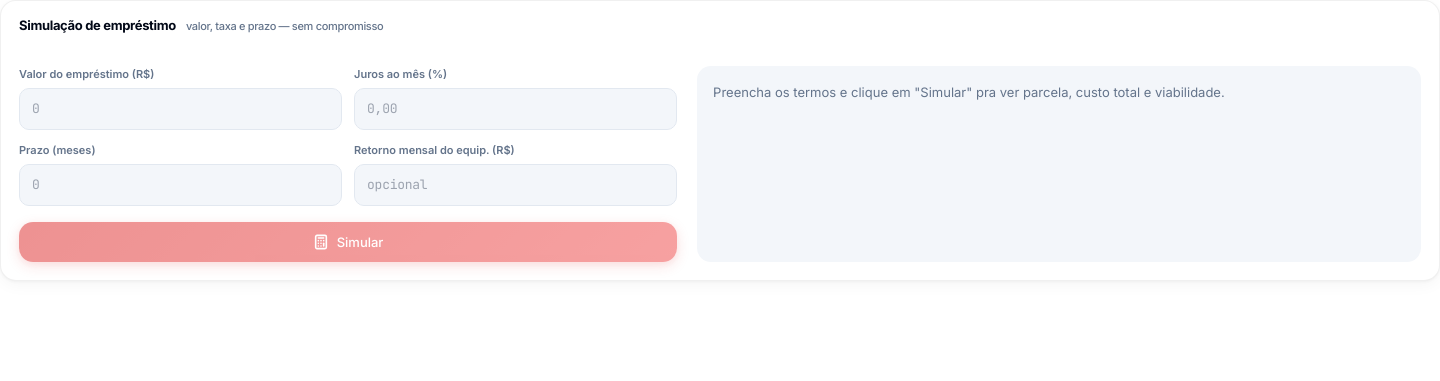
Test: Bancário › Simulador de empréstimo (smoke) › preenche, envia e renderiza o resultado real vindo do servidor (Tabela Price)
This screenshot has width=1440, height=381.
Type "20000" into the number field labelled "Valor do empréstimo (R$)" at (180,108), box [19,88,342,130]
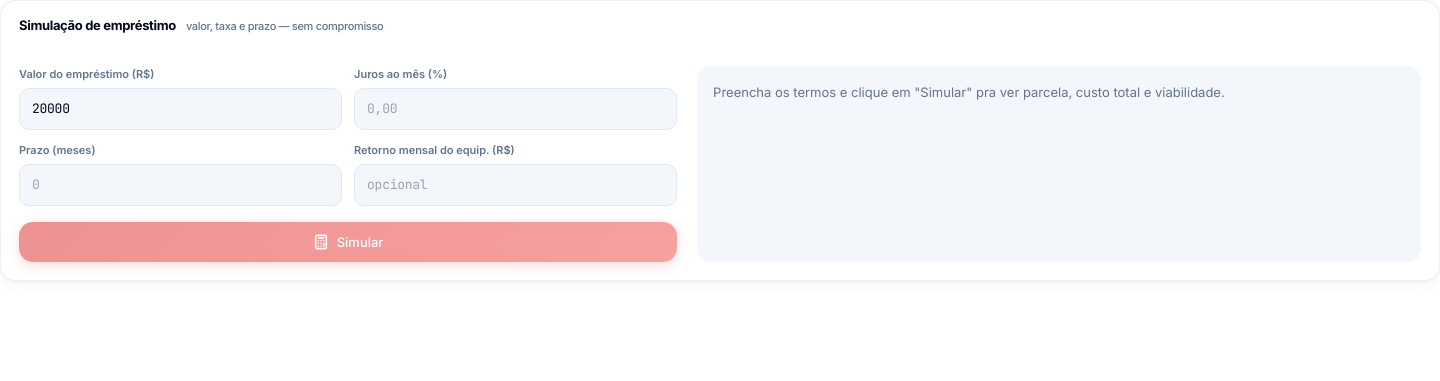
Type "1.5" into the number field labelled "Juros ao mês (%)" at (516,108), box [354,88,677,130]
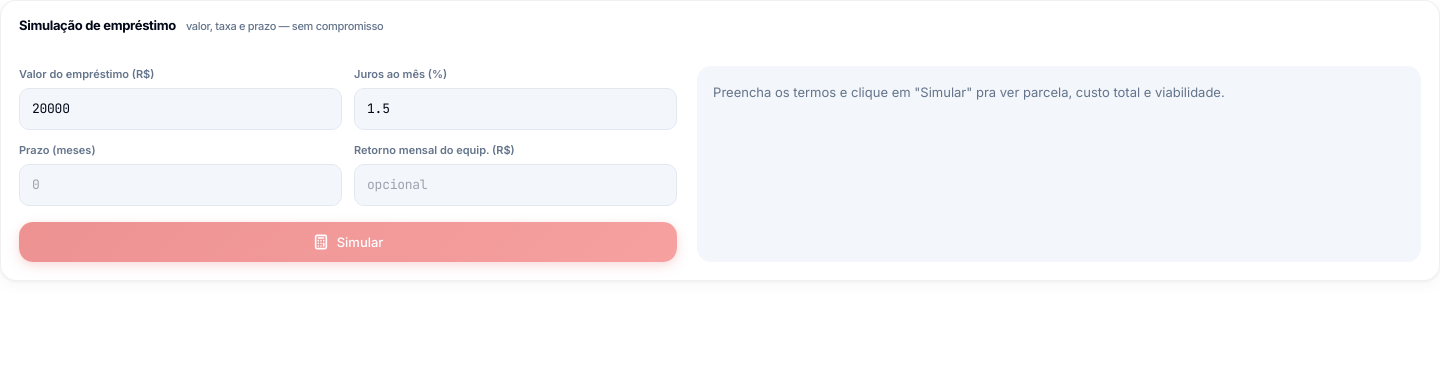
Type "12" into the number field labelled "Prazo (meses)" at (180,184), box [19,164,342,206]
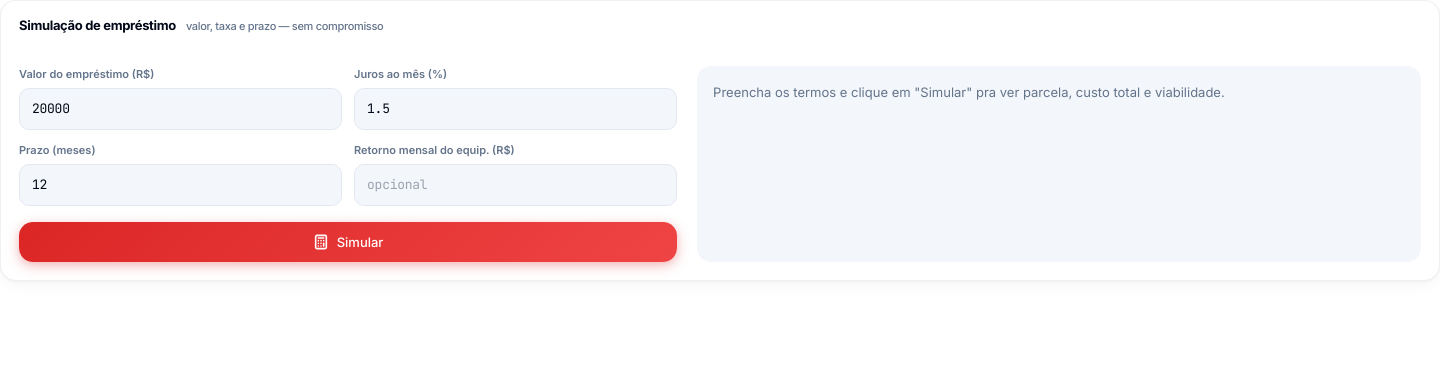
Now the button "Simular" is enabled
Click the button "Simular" at (348,242), box [19,222,677,262]
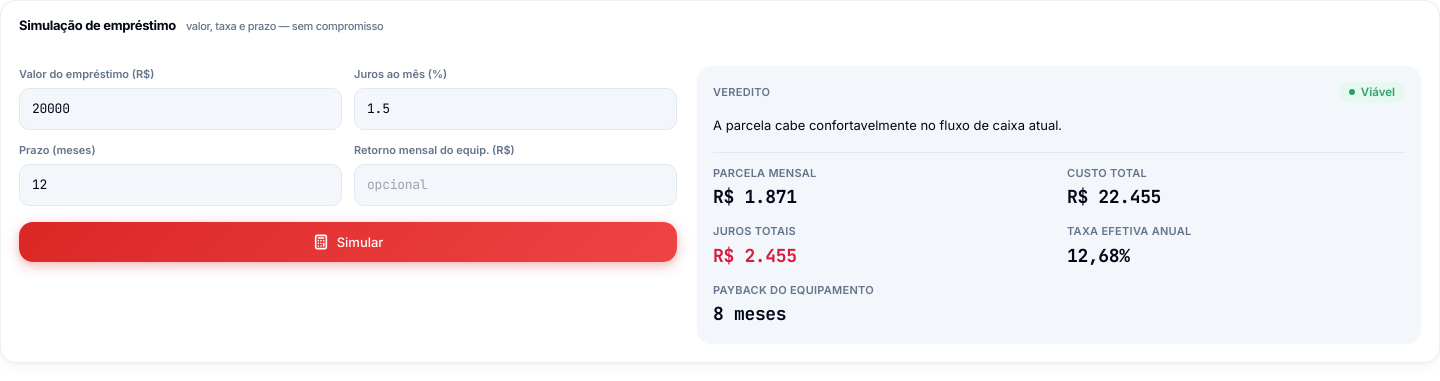
Now the text "Viável" is shown, box [1339,82,1405,103]
Now the text "A parcela cabe confortavelmente no fluxo de caixa atual." is shown, box [713,117,1062,133]
Now the text "R$ 1.871" is shown, box [713,185,797,208]
